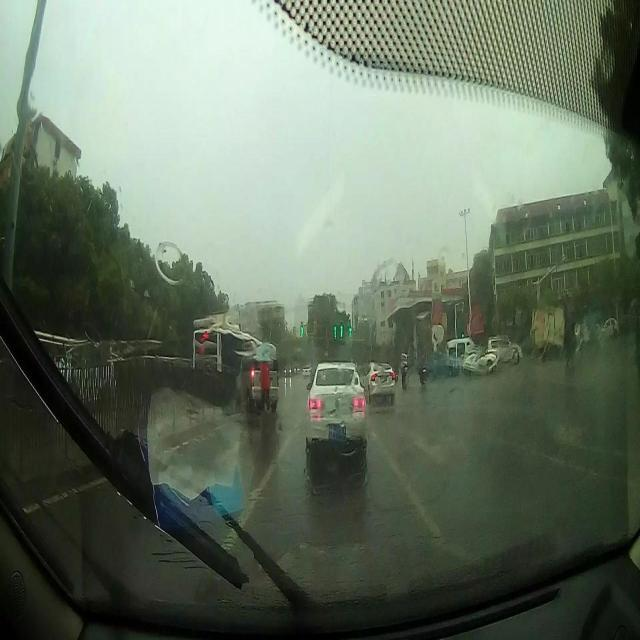car: (305, 361, 368, 459), (235, 346, 279, 406), (362, 362, 395, 400), (488, 338, 522, 363), (426, 354, 460, 377), (464, 351, 497, 374)
